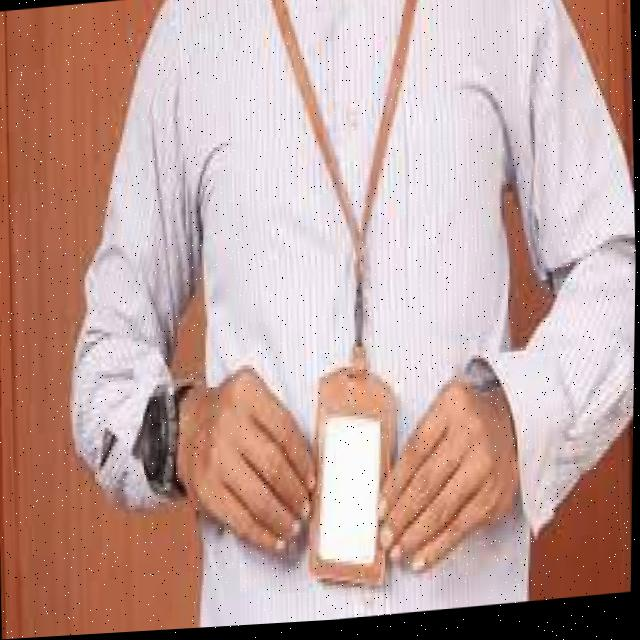id_card: (264, 0, 412, 597)
